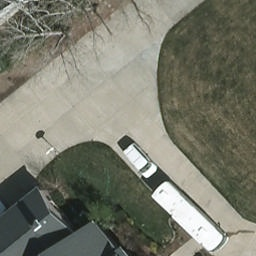car: (122, 141, 159, 178)
